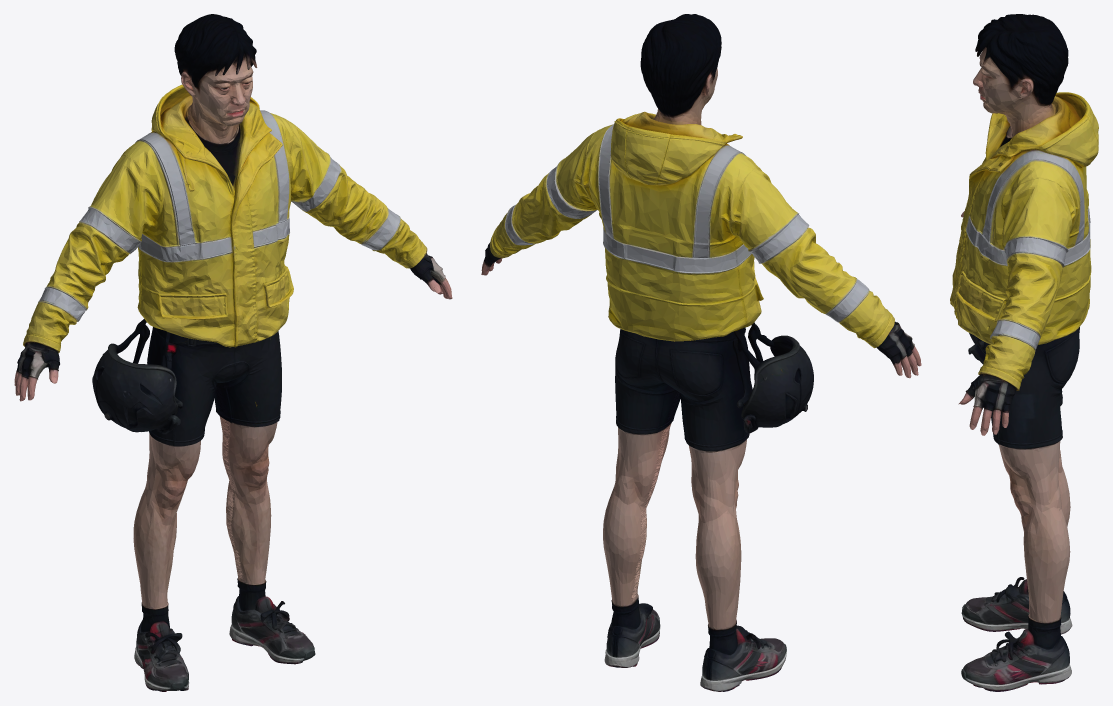
File: patient_aqiang.glb
3 views of the same model, side by side, from view 1: azimuth 30°, elevation 25°; view 2: azimuth 150°, elevation 25°; view 3: azimuth 270°, elevation 25° (orthographic).
Parts seen in each view (by area): view 1: world; view 2: world; view 3: world.
Part boxes in pixels (bbox=[...]): world: bbox=[14, 14, 452, 691]; world: bbox=[481, 14, 921, 691]; world: bbox=[950, 14, 1098, 691].
Bounding box in the file's own units: 1.23 × 1.75 × 0.3703.
Materials: 1 (1 with a texture image).
